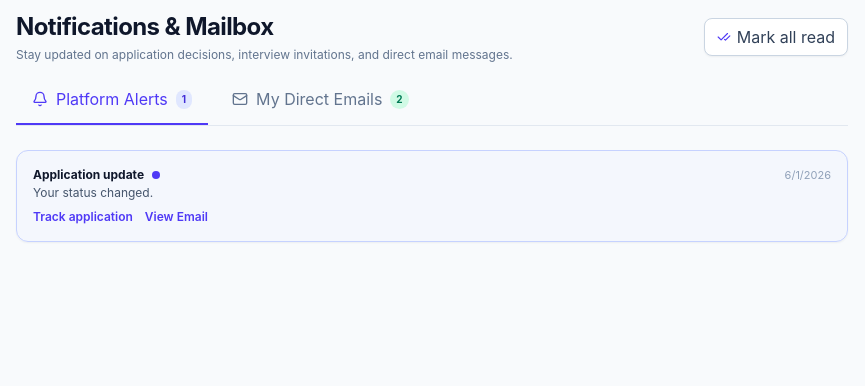
Test case: InterviewsPage status tabs and pagination › Email actions › opens eligible direct and notification emails in Gmail and keeps non-Gmail mail in the app
The width and height of the screenshot is (865, 386).
Step 1. Click the button "My Direct Emails 2" → (320, 106), box [216,87,425,125]
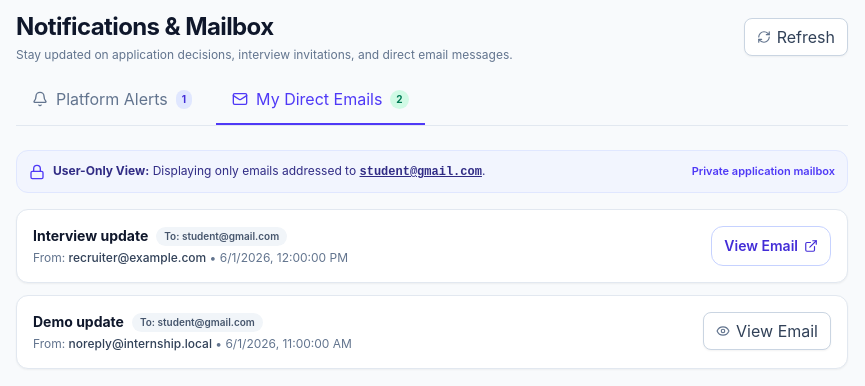
Check: the button "View Email" is shown, box [703,312,831,350]
